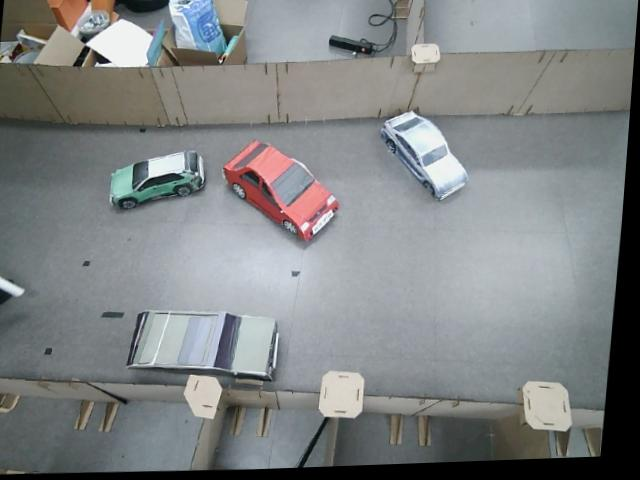car: (214, 134, 348, 247), (123, 303, 284, 392), (372, 106, 477, 207), (106, 146, 210, 213)
